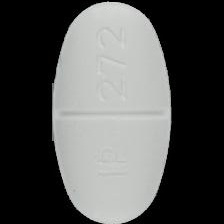70786-0272: (0, 0, 224, 224)
